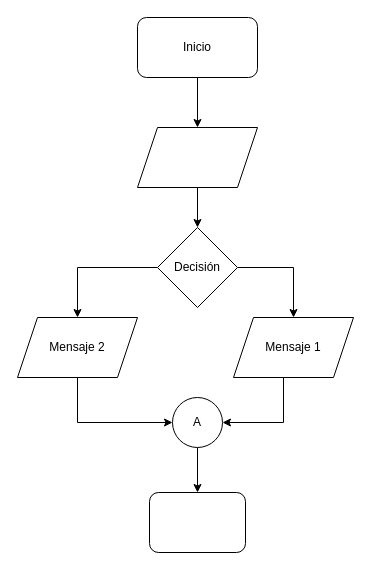
This 371x570 diagram has some shape labels left out. The shapes that lost their labels are listed below. From the top down, each one's centre as x and y in pixels, then its label:
At (x=197, y=157): "Entrada de Datos".
At (x=197, y=522): "Fin".
